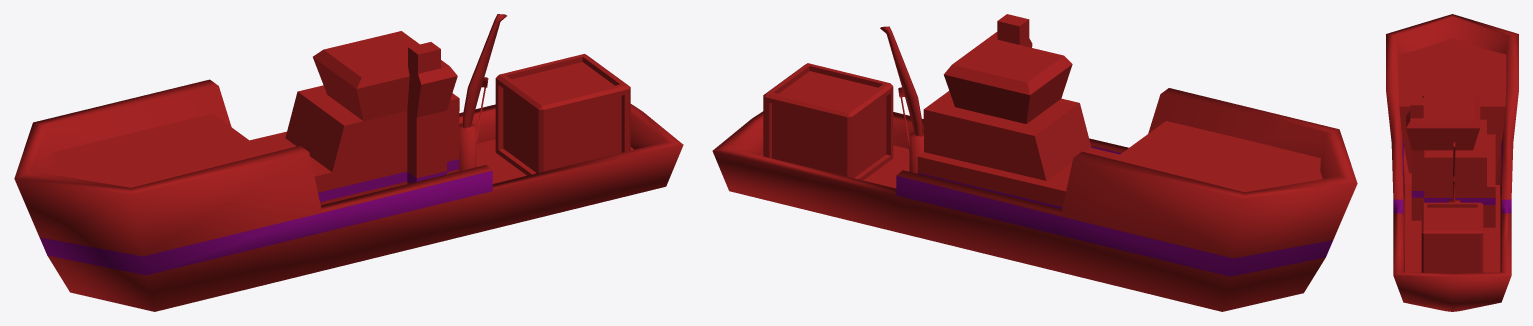
The model's file is ship1_greenContainer.fbx.
3 renders of one model, left to right at view 1: azimuth 30°, elevation 25°; view 2: azimuth 150°, elevation 25°; view 3: azimuth 270°, elevation 25°, orthographic. The views are drawn at different scales.
Visible parts, largest first — view 1: Cube.006; view 2: Cube.006; view 3: Cube.006.
Part boxes in pixels (x1,y1,x2,y2): Cube.006: [14, 14, 683, 311]; Cube.006: [712, 14, 1357, 311]; Cube.006: [1386, 14, 1518, 311].
Size of the model in its own units: 1704 by 538 by 466.
